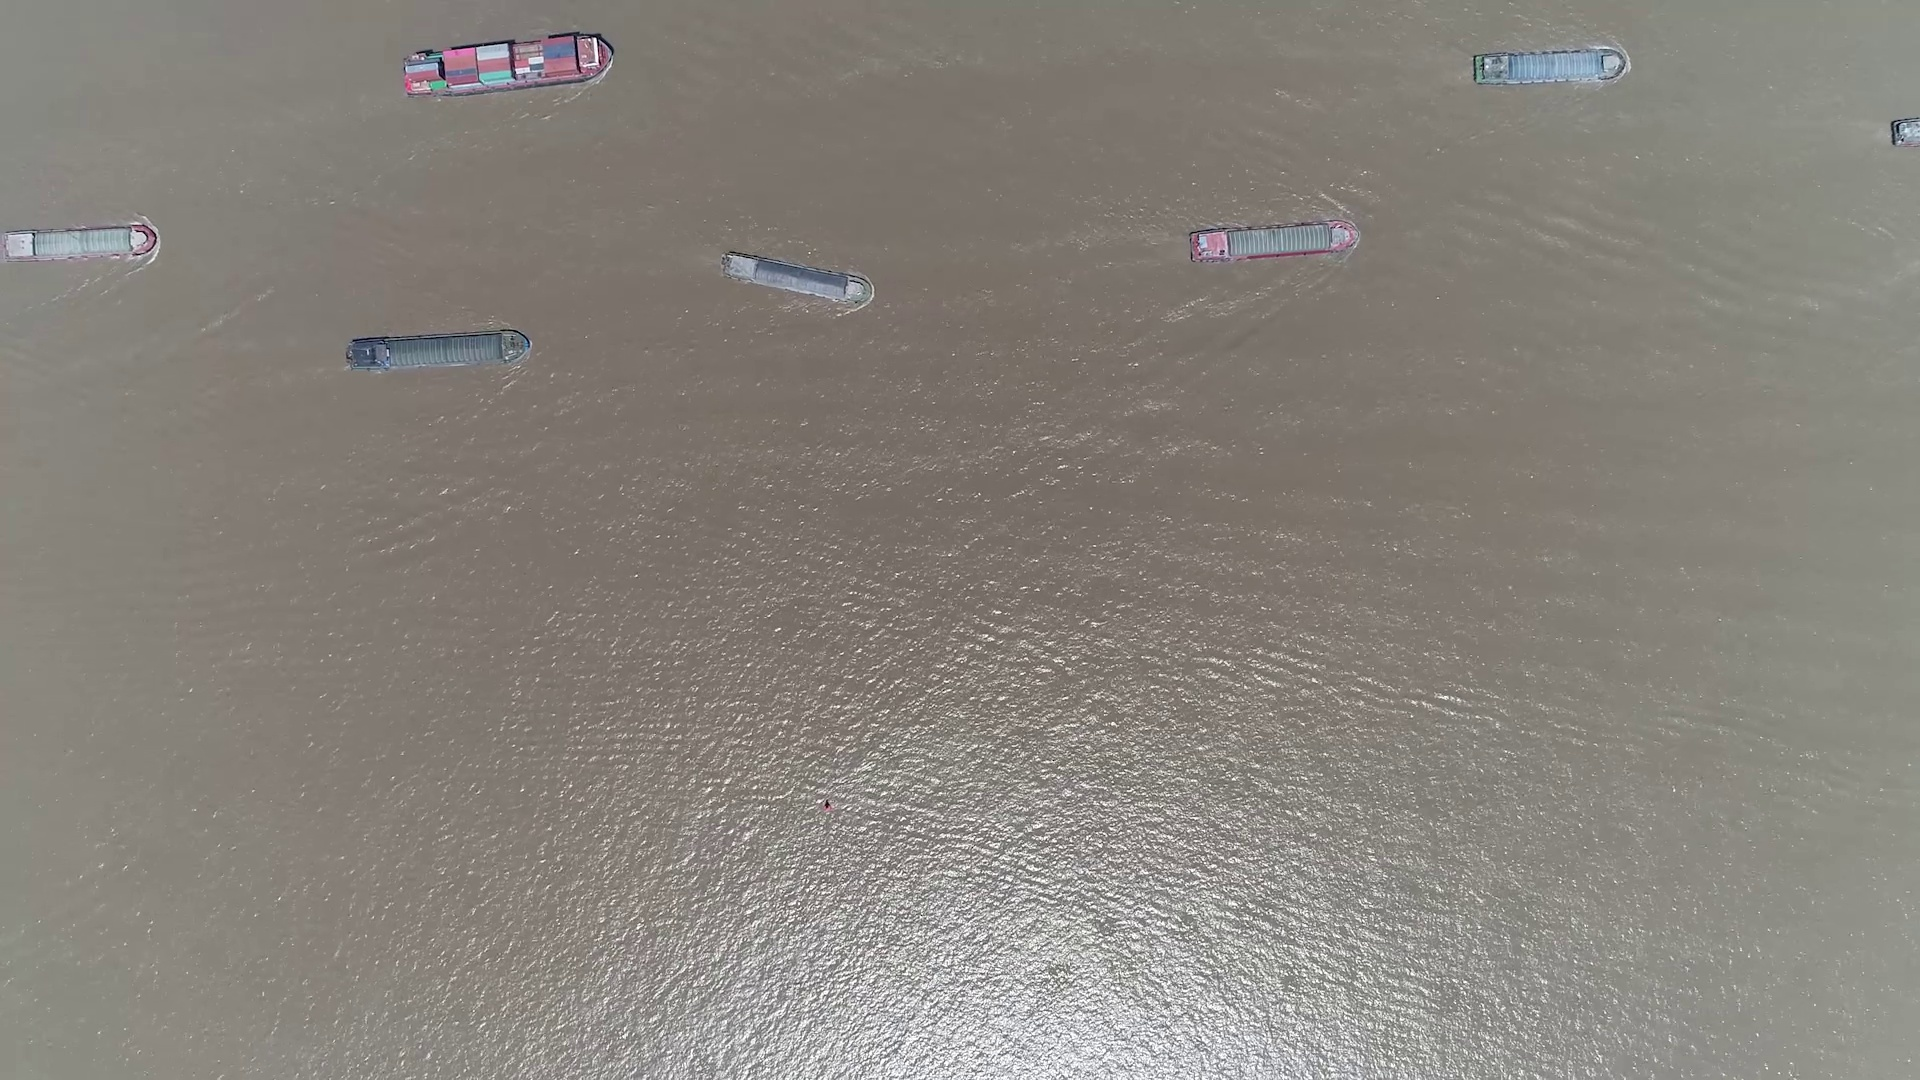ship: (400, 34, 612, 96), (721, 252, 872, 305), (345, 331, 527, 372), (1187, 222, 1358, 262), (1474, 47, 1626, 84), (0, 225, 156, 261)
